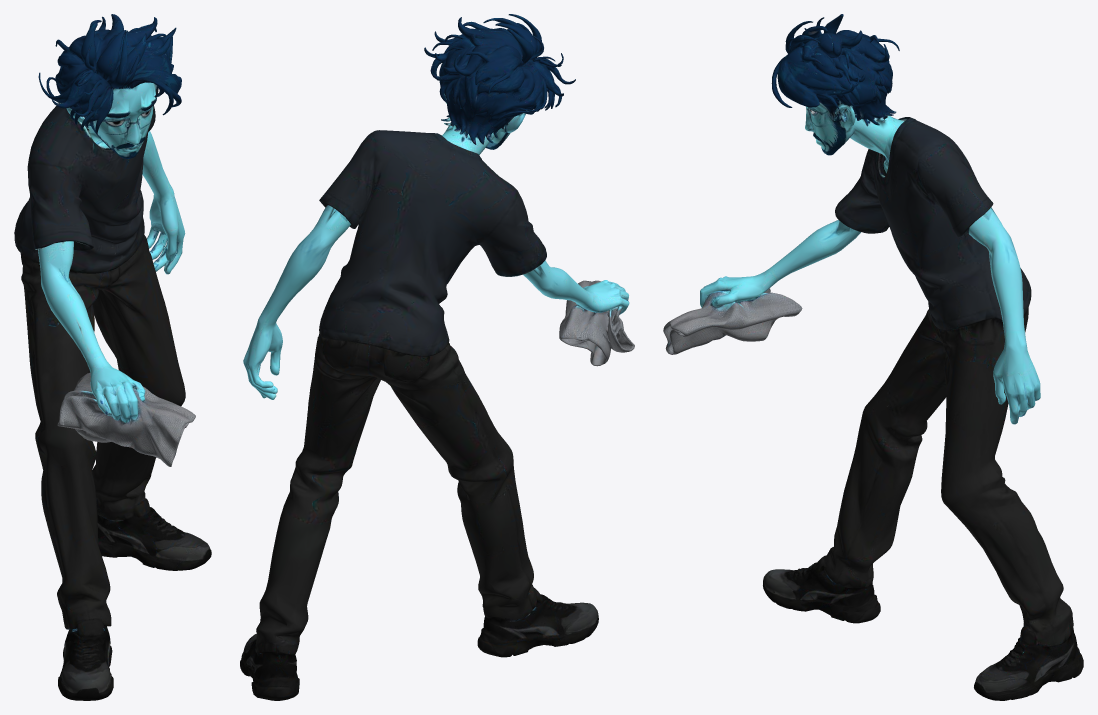
Rendered from jota-pano-web.glb.
3 renders of one model, left to right at view 1: azimuth 30°, elevation 25°; view 2: azimuth 150°, elevation 25°; view 3: azimuth 270°, elevation 25°, orthographic. The views are drawn at different scales.
Bounding box in the file's own units: 0.8574 × 1.9 × 1.21.
Materials: 1 (1 with a texture image).
